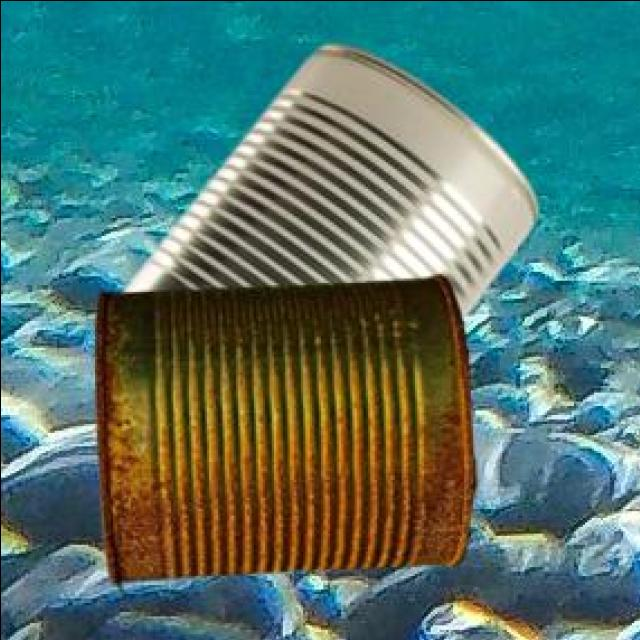logam: (91, 272, 471, 581), (117, 39, 534, 314)
